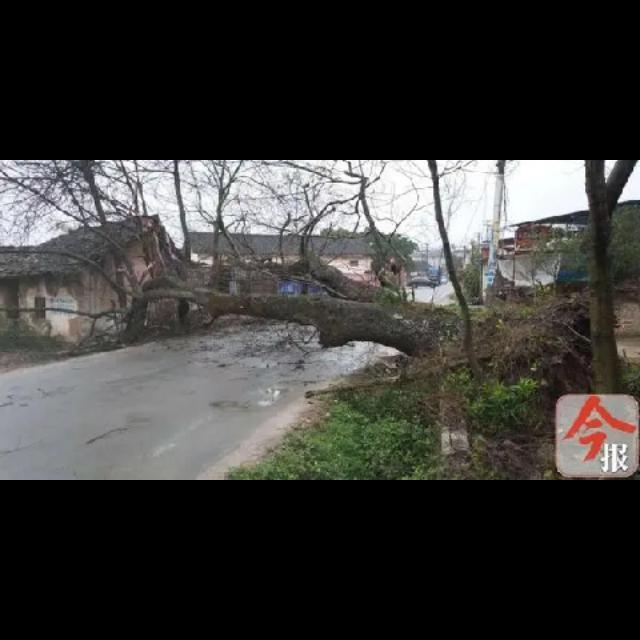fallen_tree: (1, 162, 565, 378)
